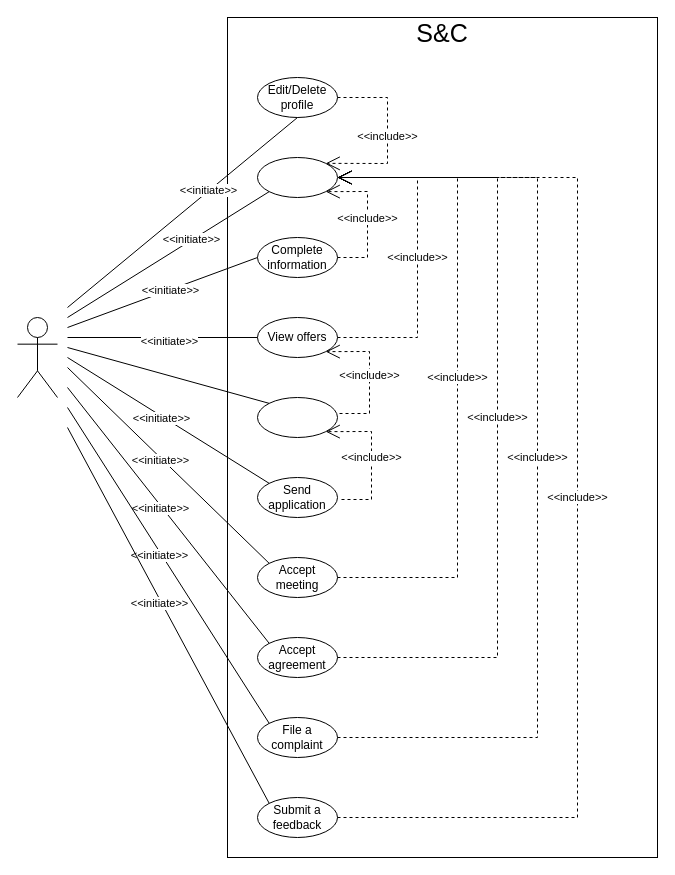
This 675x875 diagram has some shape labels left out. Here are the shapes that lost their labels. From the top down, the centre of each, then its label:
At point 297,177: "Login".
At point 37,357: "Student".
At point 297,417: "View offer details".
